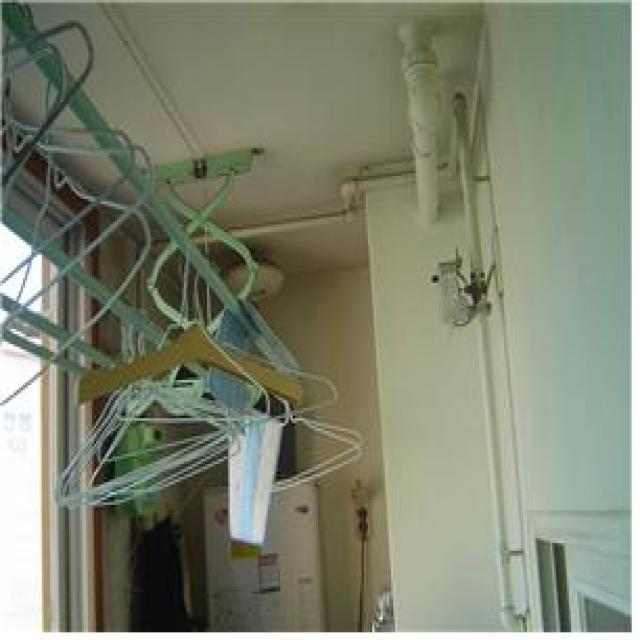Boiler: (195, 471, 333, 634)
